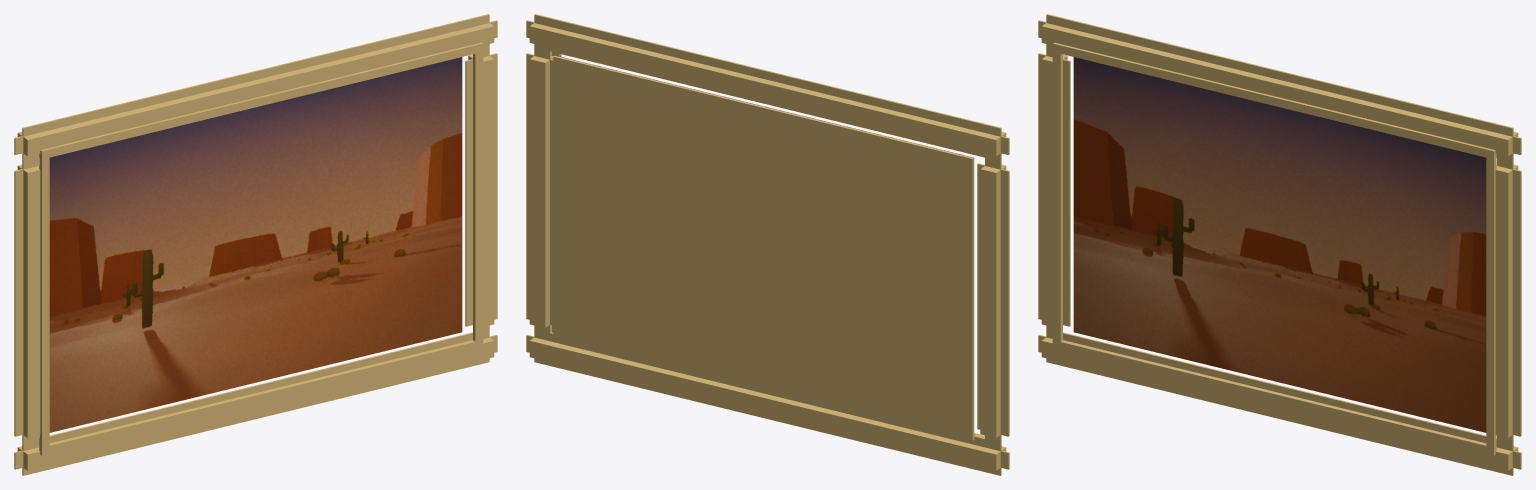
Rendered from Cuadro_Paisaje_Desierto.fbx.
The picture shows the model from 3 angles, left to right: view 1: azimuth 30°, elevation 25°; view 2: azimuth 150°, elevation 25°; view 3: azimuth 330°, elevation 25°; orthographic projection.
Parts seen in each view (by area): view 1: Cuadro_Paisaje_Desierto; view 2: Cuadro_Paisaje_Desierto; view 3: Cuadro_Paisaje_Desierto.
Boxes of the visible parts, x1,y1,x2,y2 form: Cuadro_Paisaje_Desierto: (14,14,497,475); Cuadro_Paisaje_Desierto: (526,14,1009,475); Cuadro_Paisaje_Desierto: (1038,14,1521,475).
Size of the model in its own units: 1.38 by 0.95 by 0.0575.
Materials: 2 (1 with a texture image).
